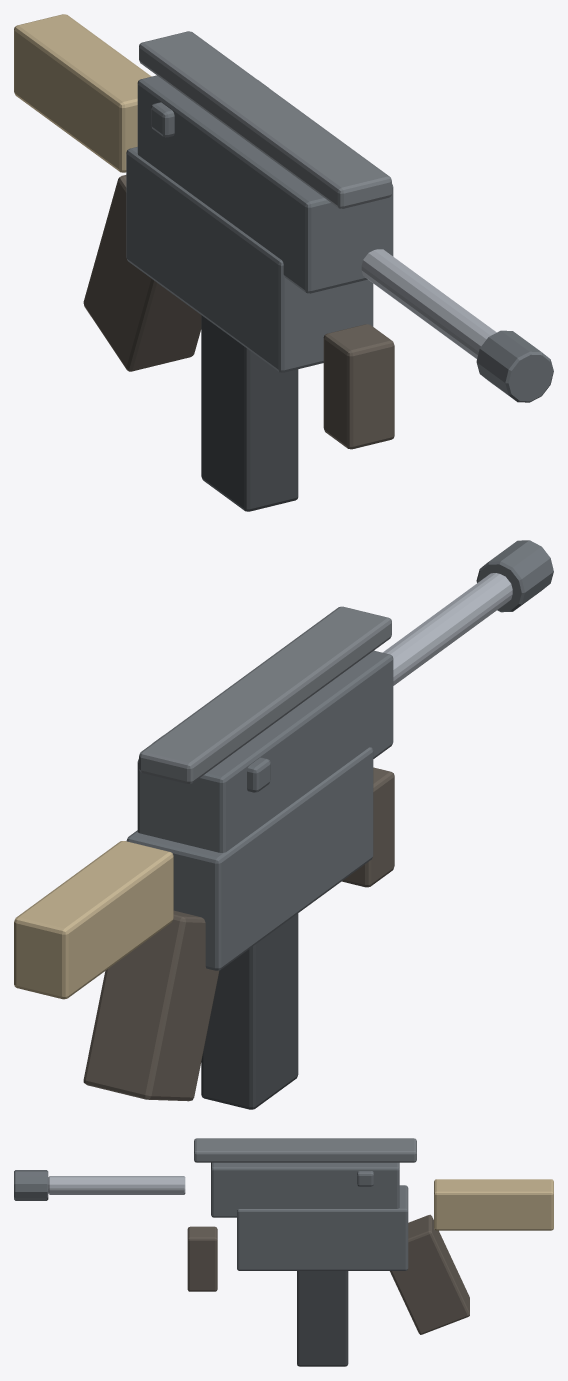
The model's file is vector.glb.
3 views of the same model, one above another, from view 1: azimuth 30°, elevation 25°; view 2: azimuth 150°, elevation 25°; view 3: azimuth 270°, elevation 25° (orthographic). The views are drawn at different scales.
Parts seen in each view (by area): view 1: Lower, Upper, Rail, Mag, Stock, Grip, VGrip, Barrel, Brake, Charge; view 2: Lower, Upper, Grip, Stock, Rail, Mag, Barrel, Brake, VGrip, Charge; view 3: Lower, Upper, Stock, Grip, Rail, Mag, Barrel, VGrip, Brake.
Boxes of the visible parts, x1=… form: Lower: x1=126, y1=147, x2=373, y2=372; Upper: x1=137, y1=75, x2=393, y2=293; Rail: x1=139, y1=31, x2=391, y2=208; Mag: x1=201, y1=315, x2=298, y2=511; Stock: x1=14, y1=14, x2=151, y2=172; Grip: x1=83, y1=175, x2=201, y2=371; VGrip: x1=323, y1=324, x2=394, y2=449; Barrel: x1=361, y1=249, x2=496, y2=358; Brake: x1=476, y1=330, x2=553, y2=402; Charge: x1=151, y1=80, x2=268, y2=137; Lower: x1=126, y1=747, x2=373, y2=970; Upper: x1=137, y1=650, x2=393, y2=852; Grip: x1=83, y1=910, x2=219, y2=1101; Stock: x1=14, y1=841, x2=173, y2=999; Rail: x1=139, y1=606, x2=391, y2=783; Mag: x1=201, y1=913, x2=298, y2=1109; Barrel: x1=383, y1=573, x2=512, y2=685; Brake: x1=476, y1=540, x2=553, y2=612; VGrip: x1=342, y1=767, x2=394, y2=887; Charge: x1=152, y1=736, x2=270, y2=792; Lower: x1=237, y1=1185, x2=408, y2=1270; Upper: x1=211, y1=1162, x2=399, y2=1217; Stock: x1=434, y1=1179, x2=553, y2=1230; Grip: x1=390, y1=1214, x2=469, y2=1334; Rail: x1=194, y1=1138, x2=416, y2=1162; Mag: x1=297, y1=1271, x2=348, y2=1366; Barrel: x1=48, y1=1176, x2=185, y2=1194; VGrip: x1=187, y1=1226, x2=217, y2=1291; Brake: x1=14, y1=1170, x2=48, y2=1200.
Size of the model in its own units: 0.08 by 0.2775 by 0.63.
